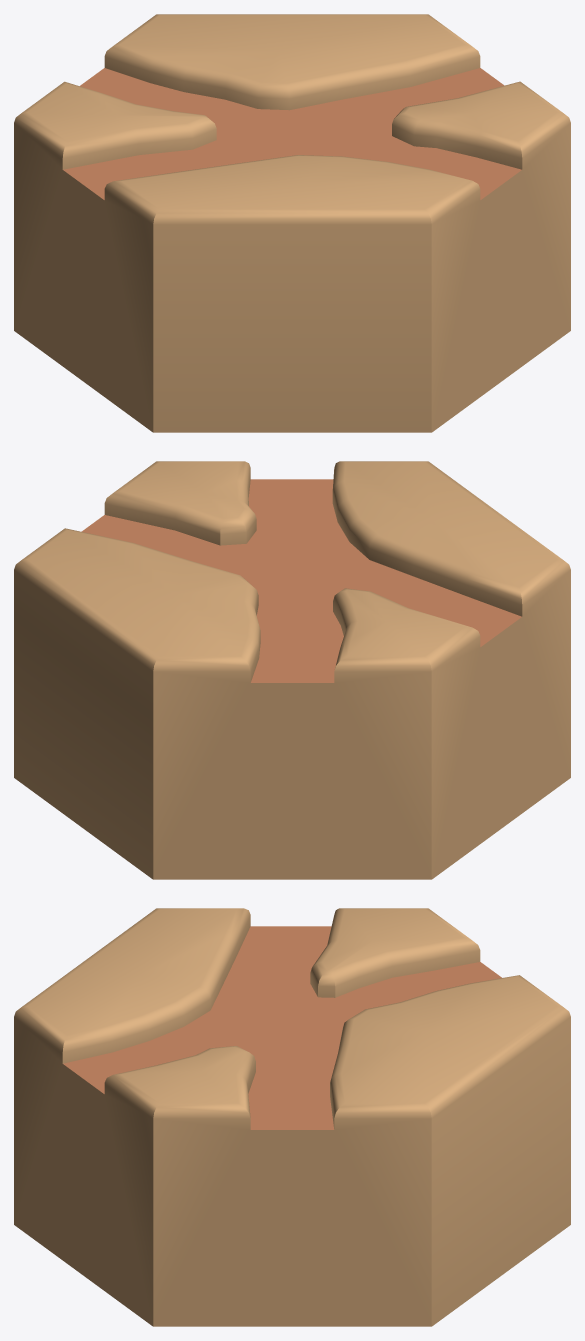
Rendered from hex_sand_roadJ.glb.
The picture shows the model from 3 angles, top to bottom: view 1: azimuth 30°, elevation 25°; view 2: azimuth 150°, elevation 25°; view 3: azimuth 270°, elevation 25°; orthographic projection.
Parts seen in each view (by area): view 1: hex_sand_roadJ; view 2: hex_sand_roadJ; view 3: hex_sand_roadJ.
Part boxes in pixels (x1,y1,x2,y2): hex_sand_roadJ: (14, 14, 570, 432); hex_sand_roadJ: (14, 461, 570, 879); hex_sand_roadJ: (14, 908, 570, 1326).
Bounding box in the file's own units: 2 × 1 × 2.31.
